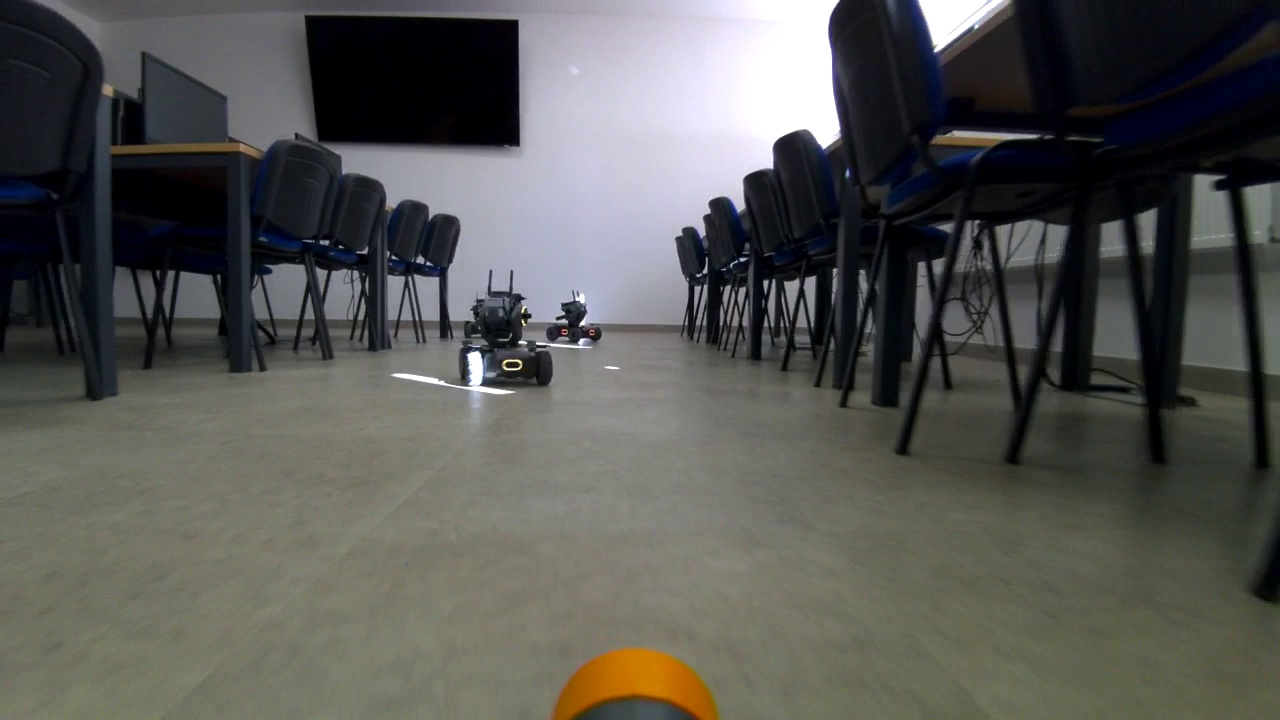robot: (449, 272, 554, 390), (545, 288, 601, 348)
